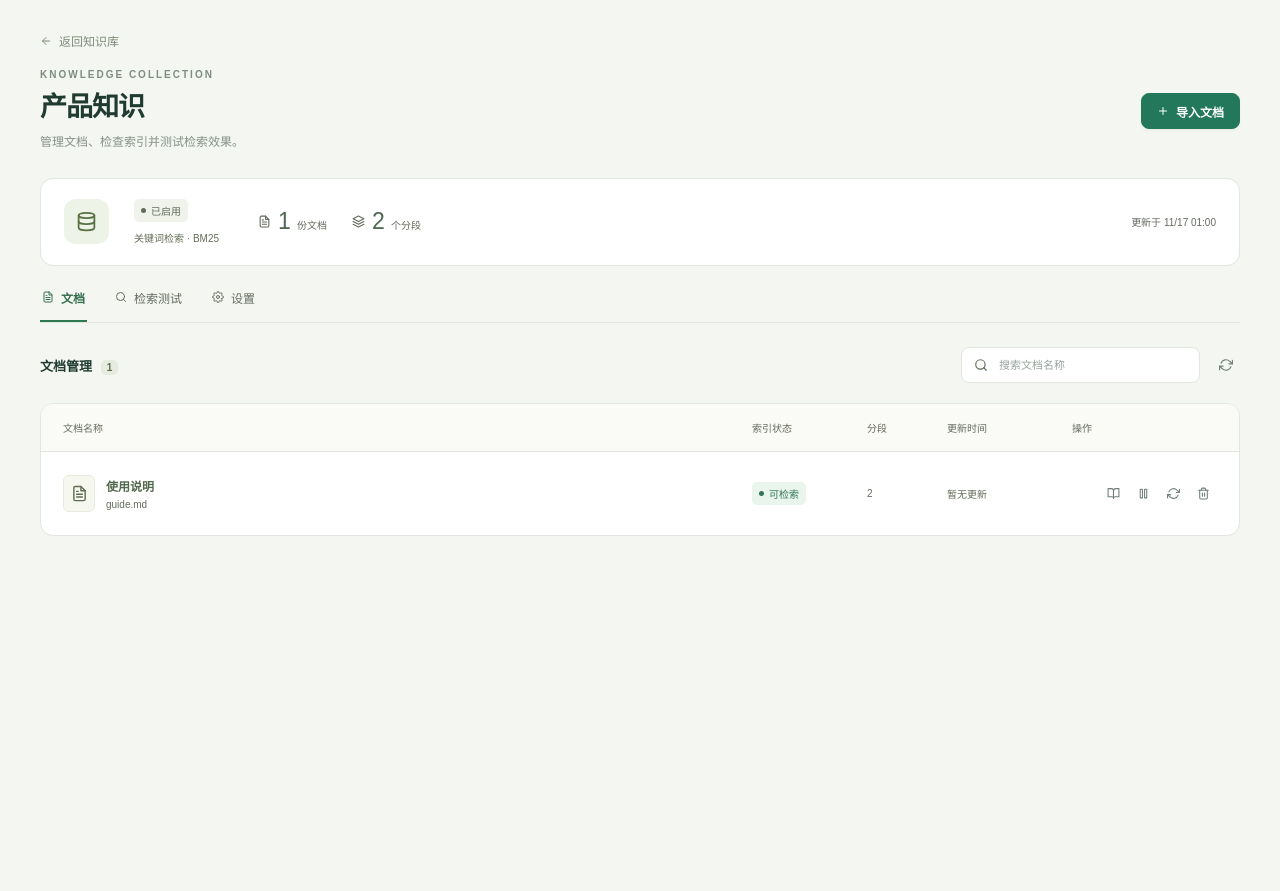
it: 全库重新索引部分失败时提示失败数量，不宣称全部成功
expect the button "使用说明" is shown: met, box [106, 477, 154, 494]
Click the tab "设置" at (234, 305), box [210, 289, 257, 322]
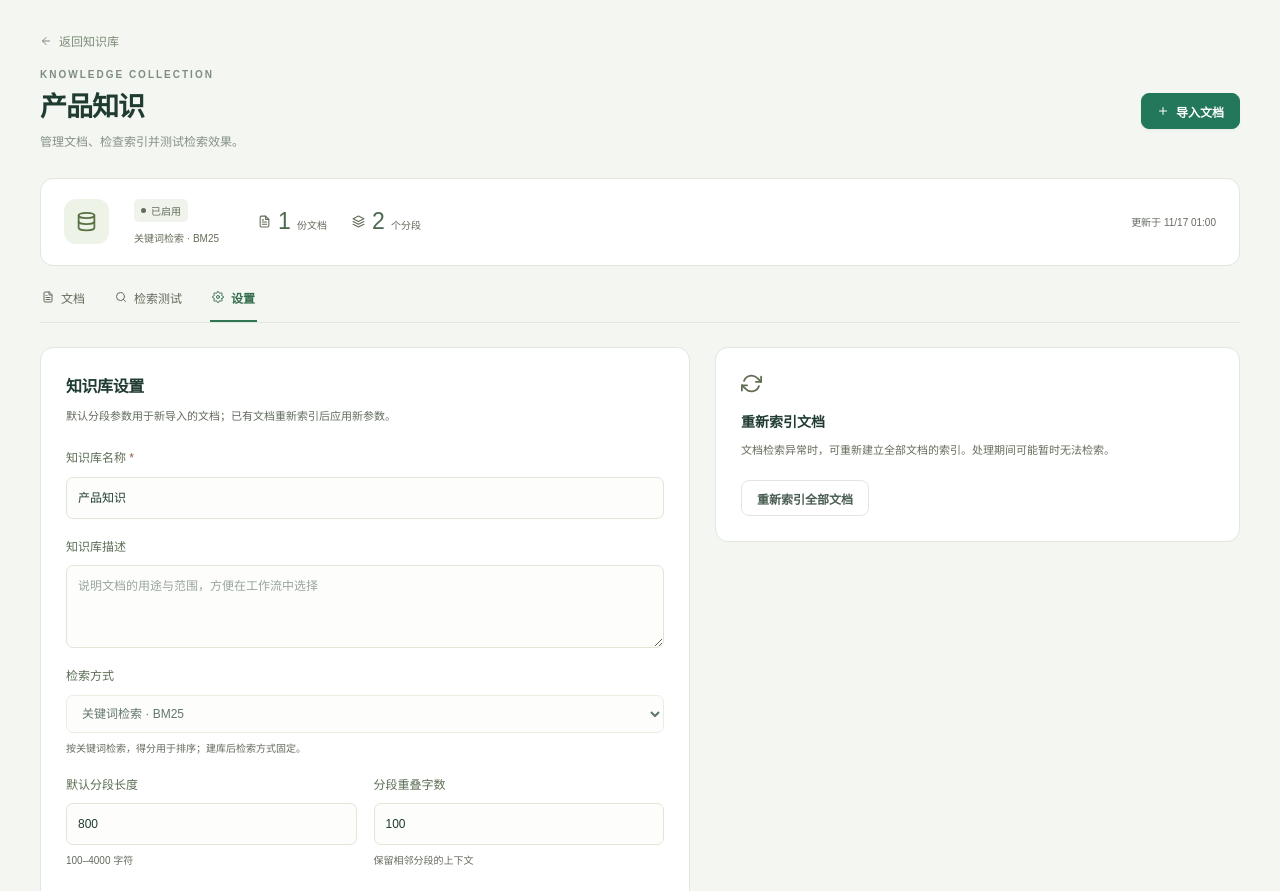
expect the dropdown labelled "检索方式" is disabled: met, box [66, 695, 664, 733]
Click the button "重新索引全部文档" at (805, 498), box [741, 480, 869, 516]
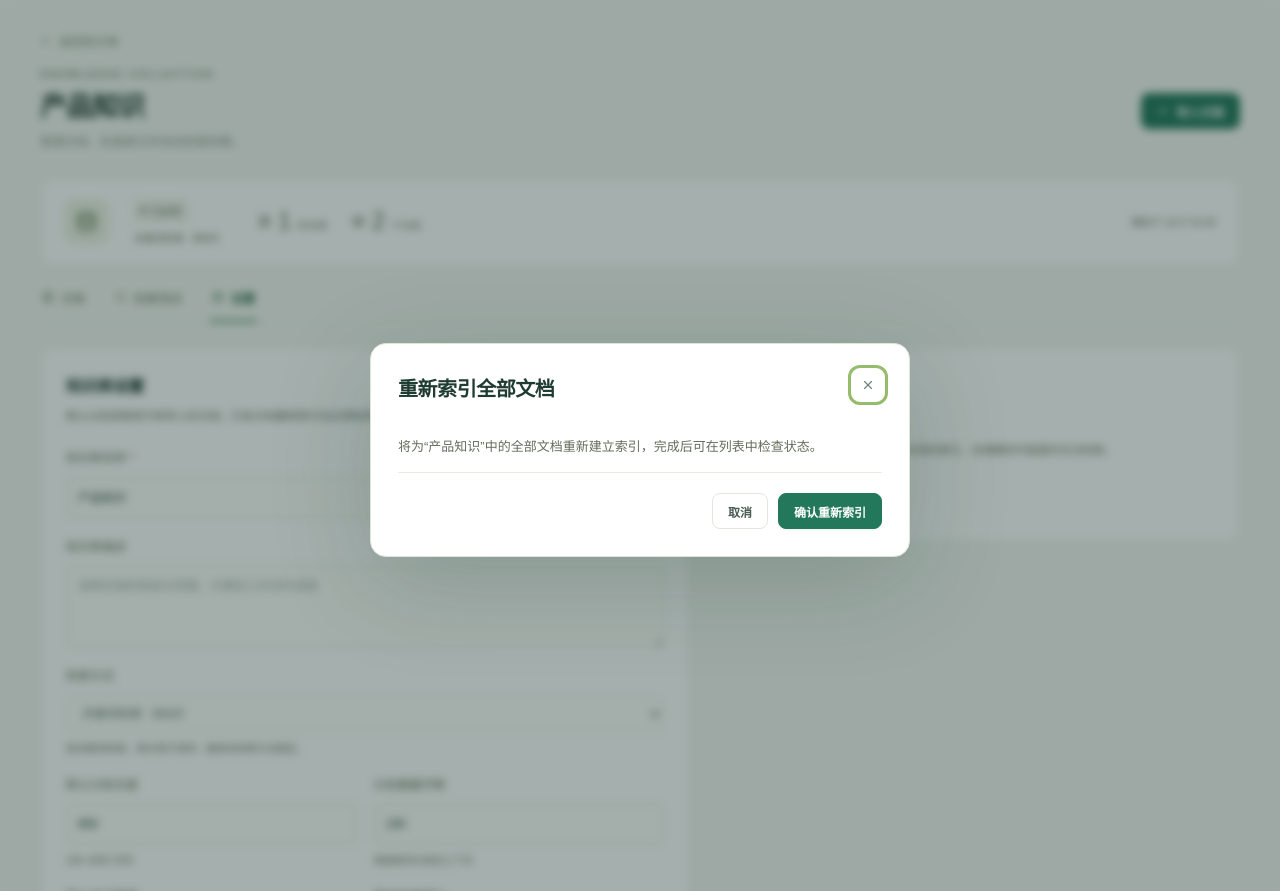
Click the button "确认重新索引" at (830, 511), box [778, 493, 882, 529]
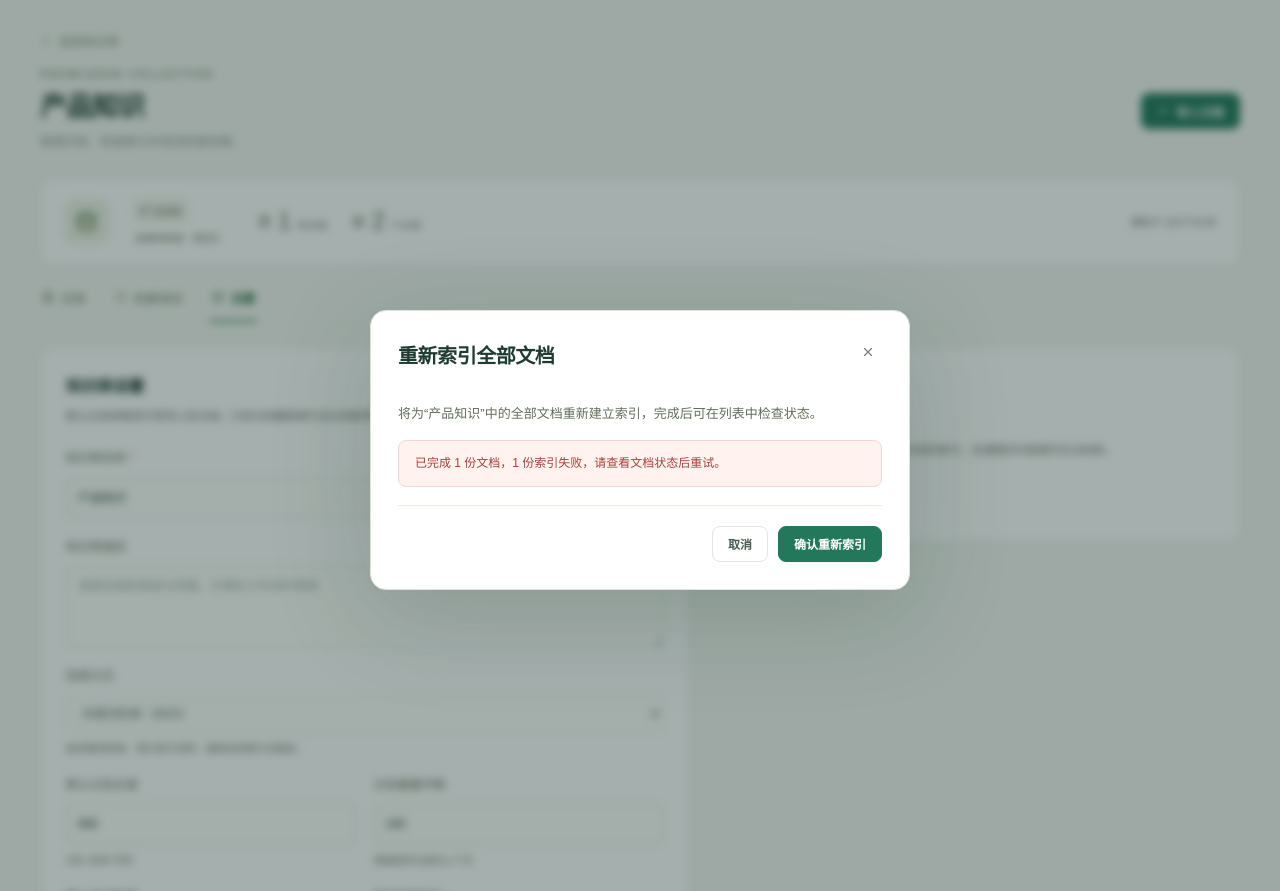
expect the message shows "1 份索引失败": met, box [415, 456, 726, 470]
